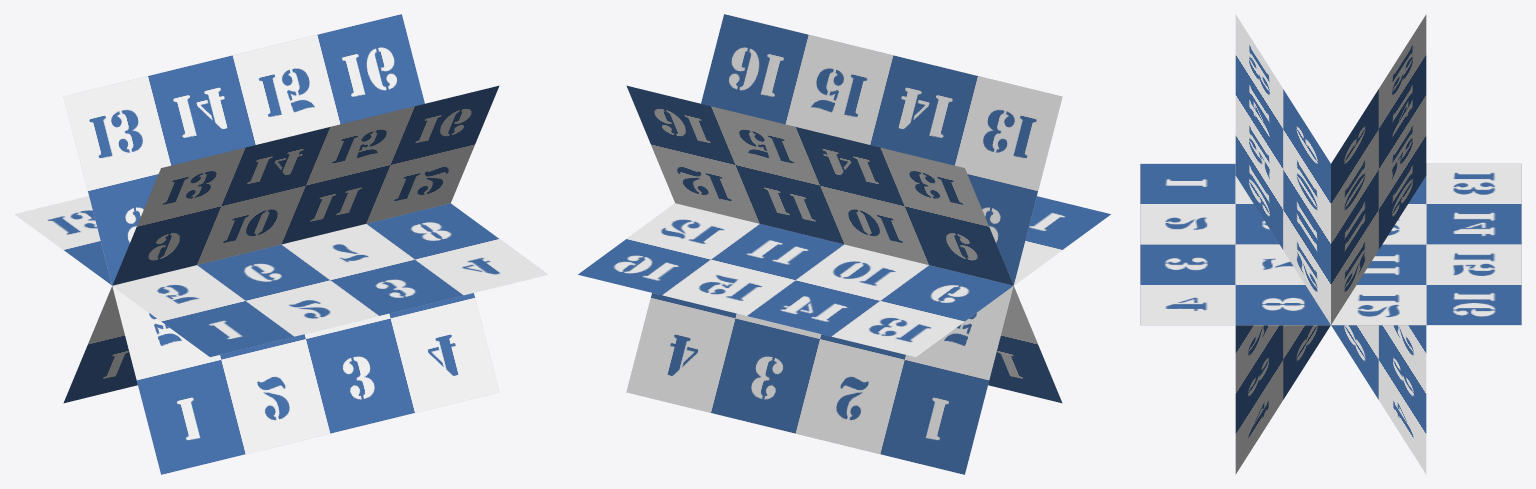
The model's file is Shinobu_PlaneSix2.fbx.
3 views of the same model, side by side, from view 1: azimuth 30°, elevation 25°; view 2: azimuth 150°, elevation 25°; view 3: azimuth 270°, elevation 25° (orthographic). The views are drawn at different scales.
Visible parts, largest first — view 1: SM_e_Plc_P0011_Plane002; view 2: SM_e_Plc_P0011_Plane002; view 3: SM_e_Plc_P0011_Plane002.
Part boxes in pixels (box(x1,y1,x2,y2)): SM_e_Plc_P0011_Plane002: box(15, 14, 547, 474); SM_e_Plc_P0011_Plane002: box(578, 14, 1110, 474); SM_e_Plc_P0011_Plane002: box(1140, 14, 1521, 474).
Bounding box in the file's own units: 100 × 86.6 × 100.
